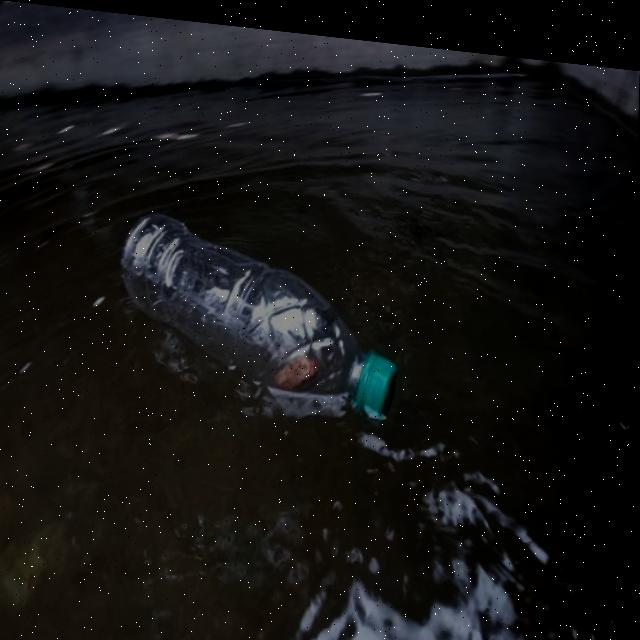waterbottle: (108, 206, 406, 439)
